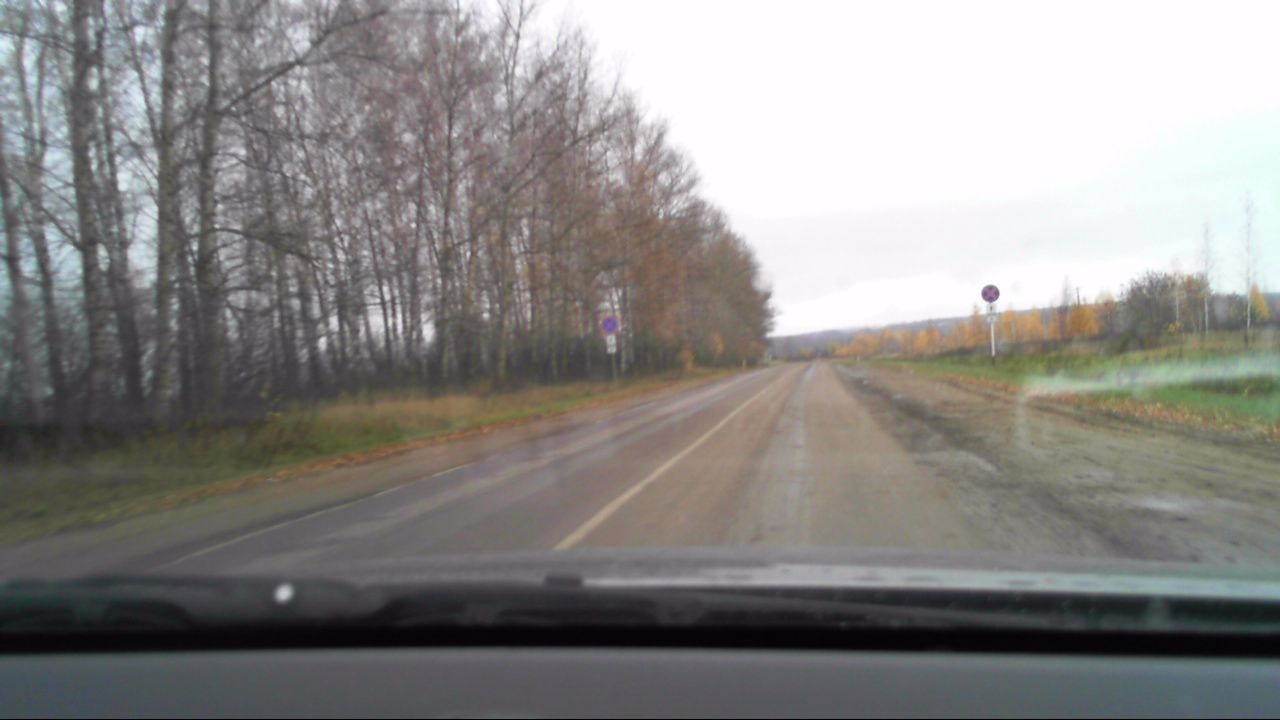No Parking: (980, 284, 999, 304)
